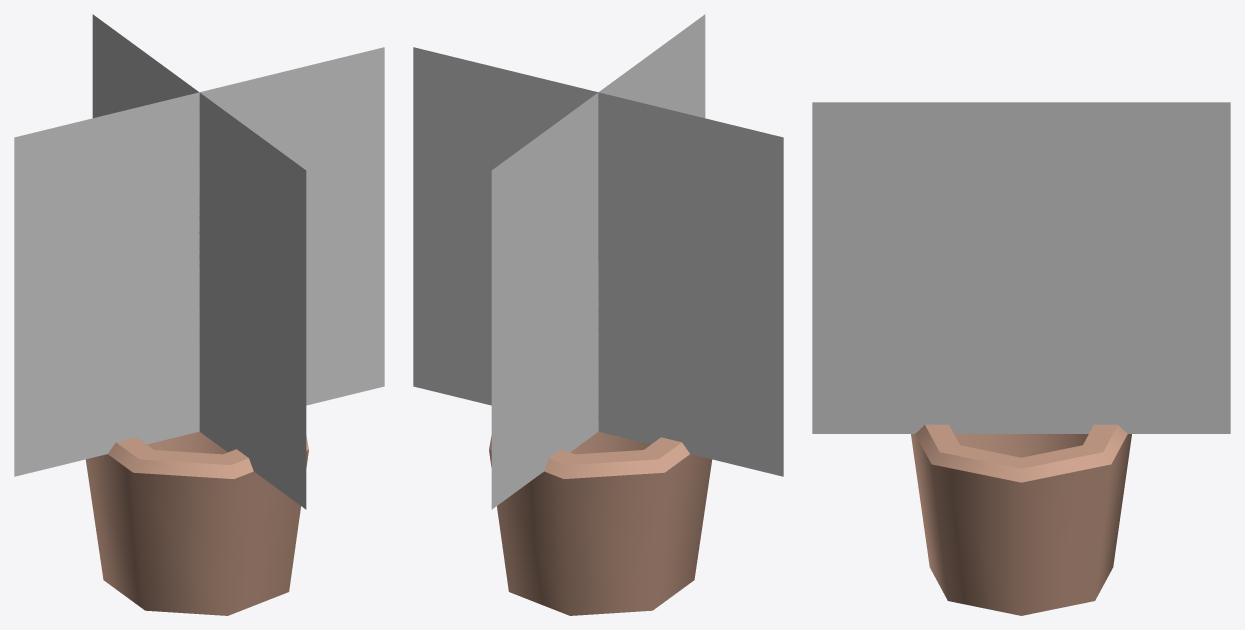
Rendered from plant_pot.glb.
3 views of the same model, side by side, from view 1: azimuth 30°, elevation 25°; view 2: azimuth 150°, elevation 25°; view 3: azimuth 270°, elevation 25° (orthographic). The views are drawn at different scales.
Parts seen in each view (by area): view 1: Plant; view 2: Plant; view 3: Plant.
Boxes of the visible parts, <box> form: Plant: <box>14,14,384,615</box>; Plant: <box>413,14,783,615</box>; Plant: <box>812,102,1230,615</box>.
Size of the model in its own units: 0.8 by 1 by 0.8.
